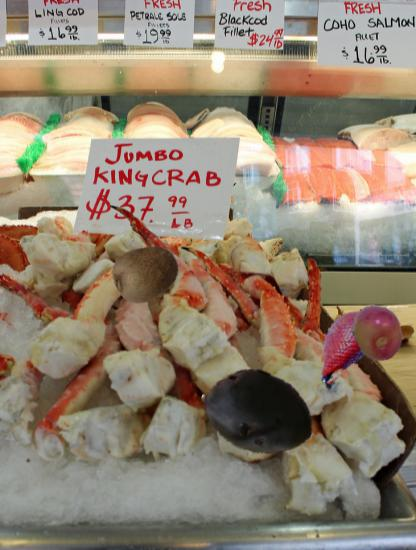Cherry: (350, 304, 407, 361)
Kiwi: (112, 239, 179, 306)
Plum: (200, 354, 317, 471)
Salak: (301, 296, 394, 389)
